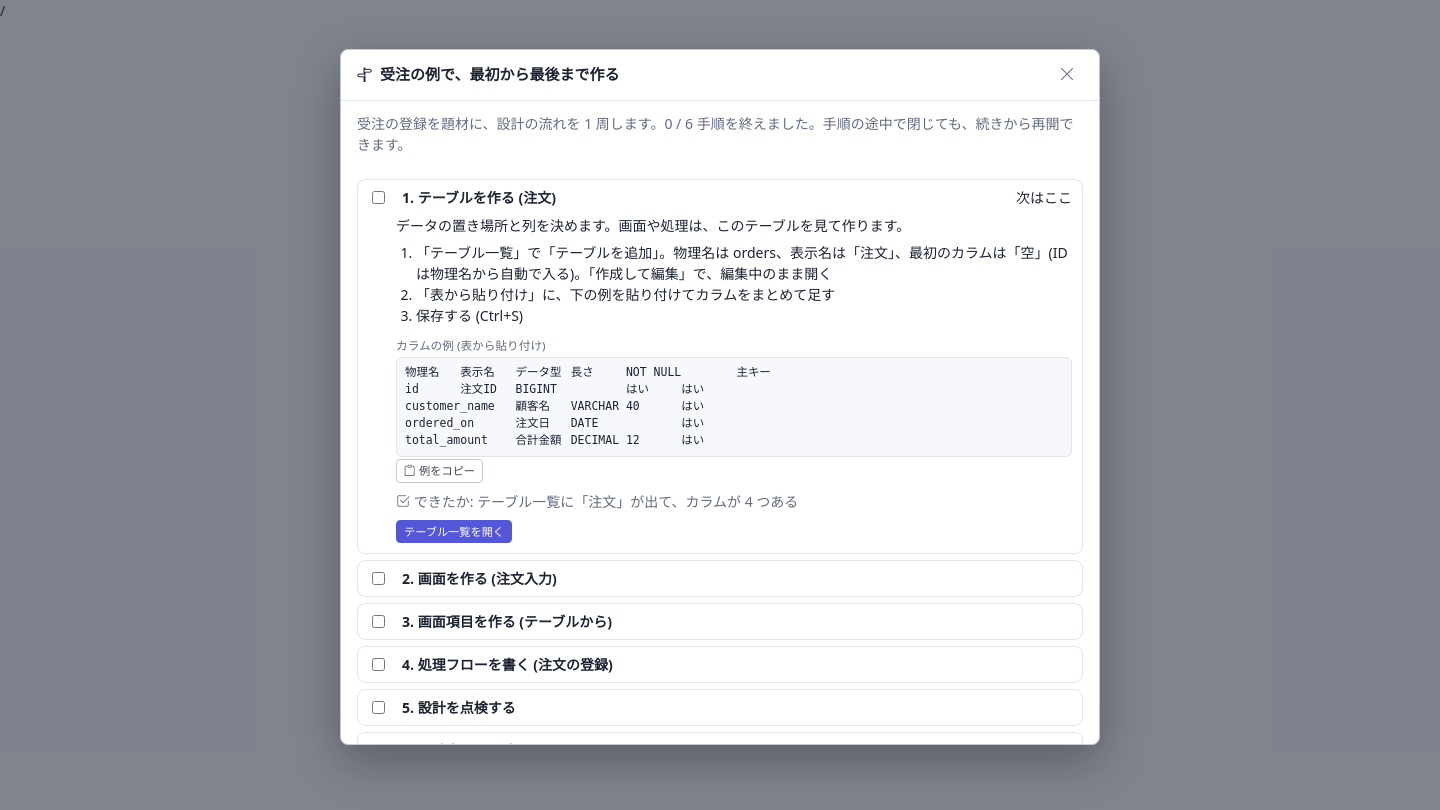
Test: WalkthroughDialog (続編 第 10 弾 #199) › 最初の手順が開いていて、「次はここ」が付く。終えた印を付けると、次の手順へ移り、覚える
expect the text with test id "wt-sample-table" shows "customer_name": met, box [405, 365, 771, 448]
Click the checkbox with test id "wt-done-table".
click(378, 197)  # box [372, 191, 385, 204]
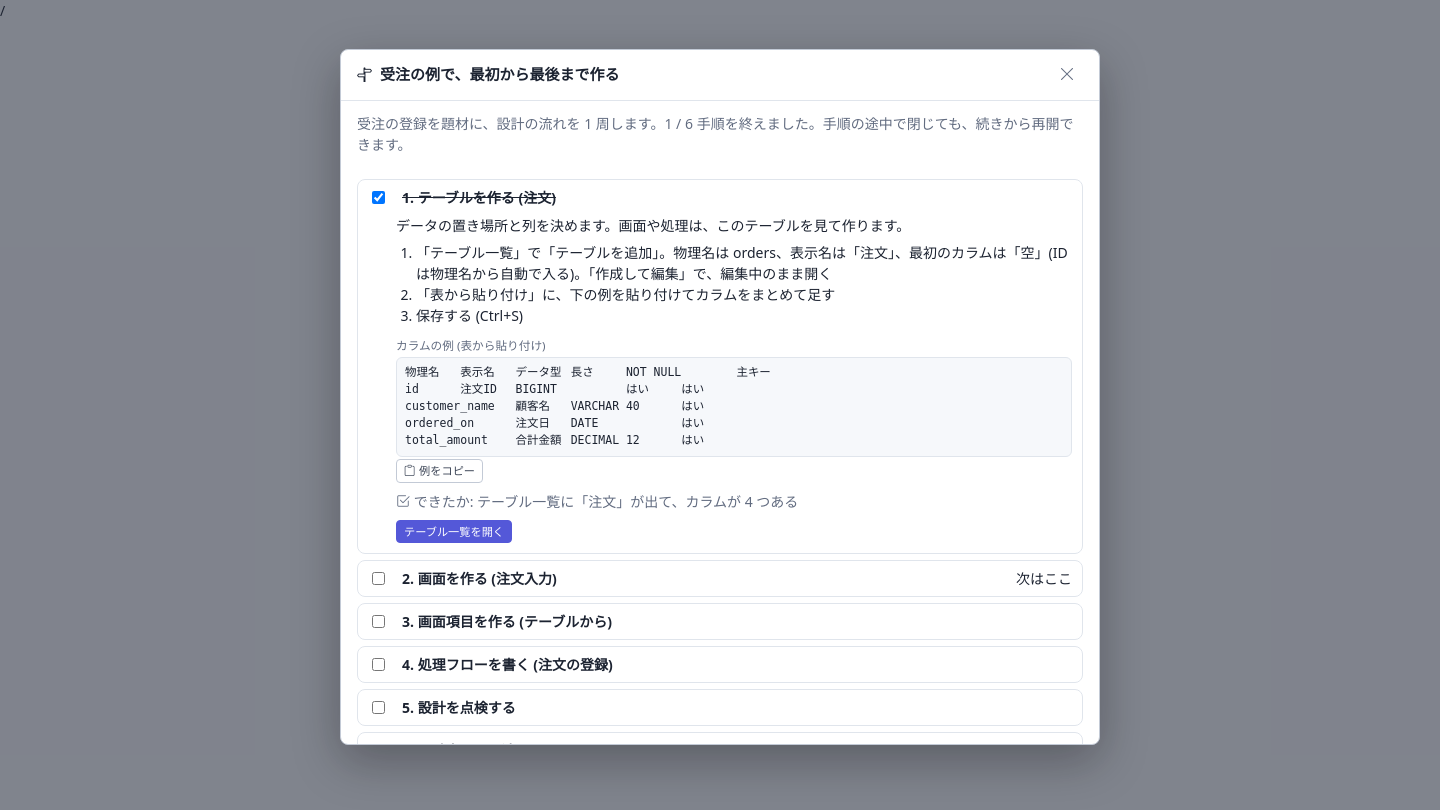
expect the list item with test id "wt-step-screen" shows "次はここ": met, box [1016, 569, 1072, 588]
